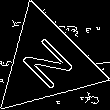N_SE: (14, 32, 79, 95)
